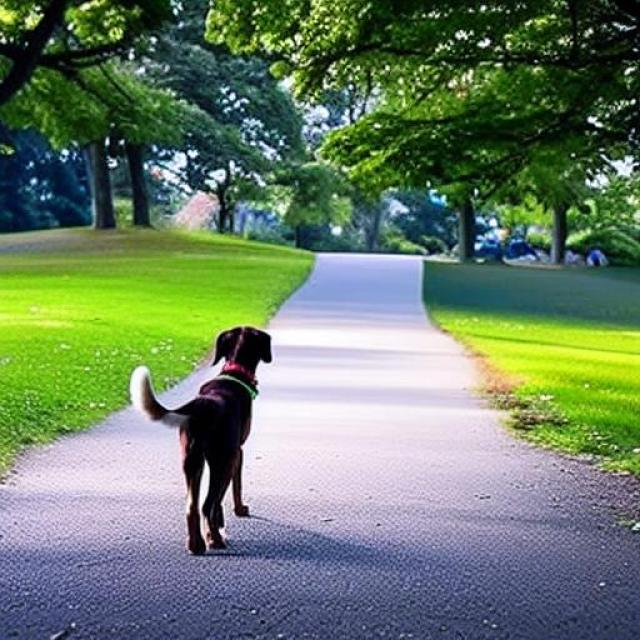Dog: (130, 326, 274, 555)
